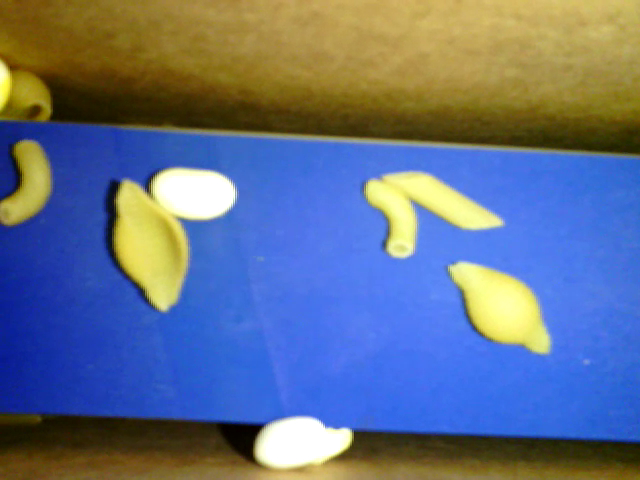elbow: (363, 174, 416, 260), (3, 138, 54, 224)
penne: (376, 166, 504, 231)
shell: (113, 176, 189, 315), (447, 259, 550, 357), (1, 71, 55, 125)
